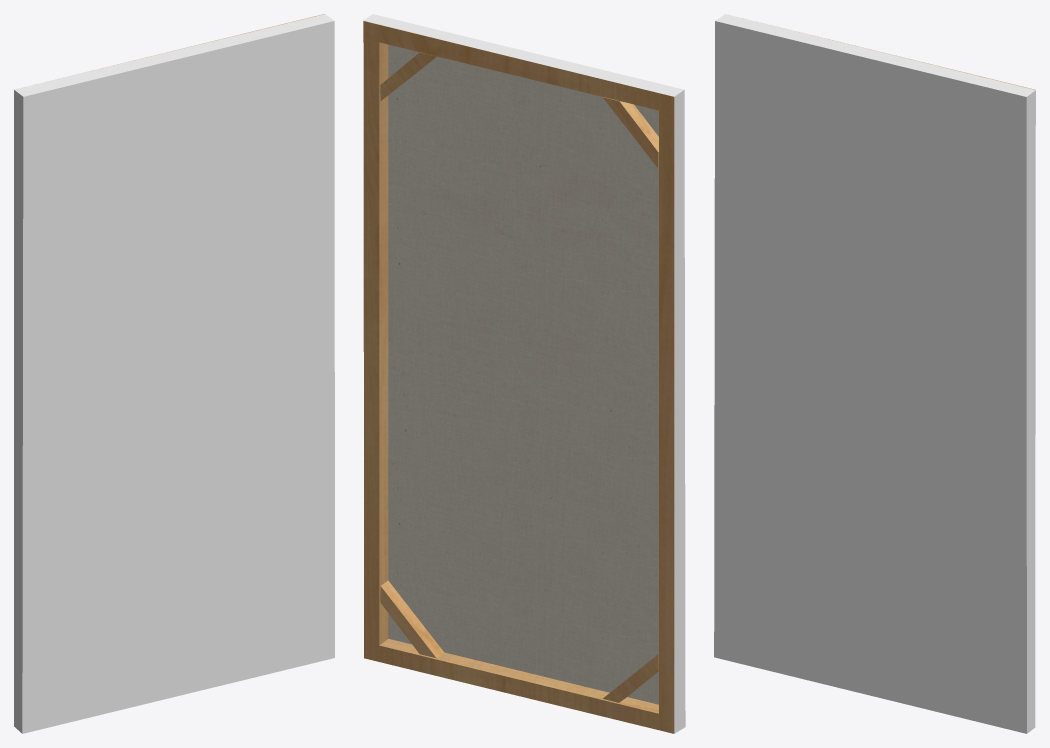
File: Canvas 2.FBX
3 views of the same model, side by side, from view 1: azimuth 30°, elevation 25°; view 2: azimuth 150°, elevation 25°; view 3: azimuth 330°, elevation 25° (orthographic).
Visible parts, largest first — view 1: Canvas 2; view 2: Canvas 2; view 3: Canvas 2.
Boxes of the visible parts, x1,y1,x2,y2 form: Canvas 2: [14, 14, 334, 733]; Canvas 2: [363, 14, 685, 733]; Canvas 2: [714, 14, 1035, 733].
Bounding box in the file's own units: 718 × 39.15 × 1399.
1 material, 1 textured.
